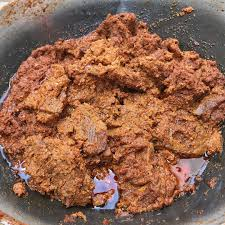rendang: (2, 10, 225, 214)
